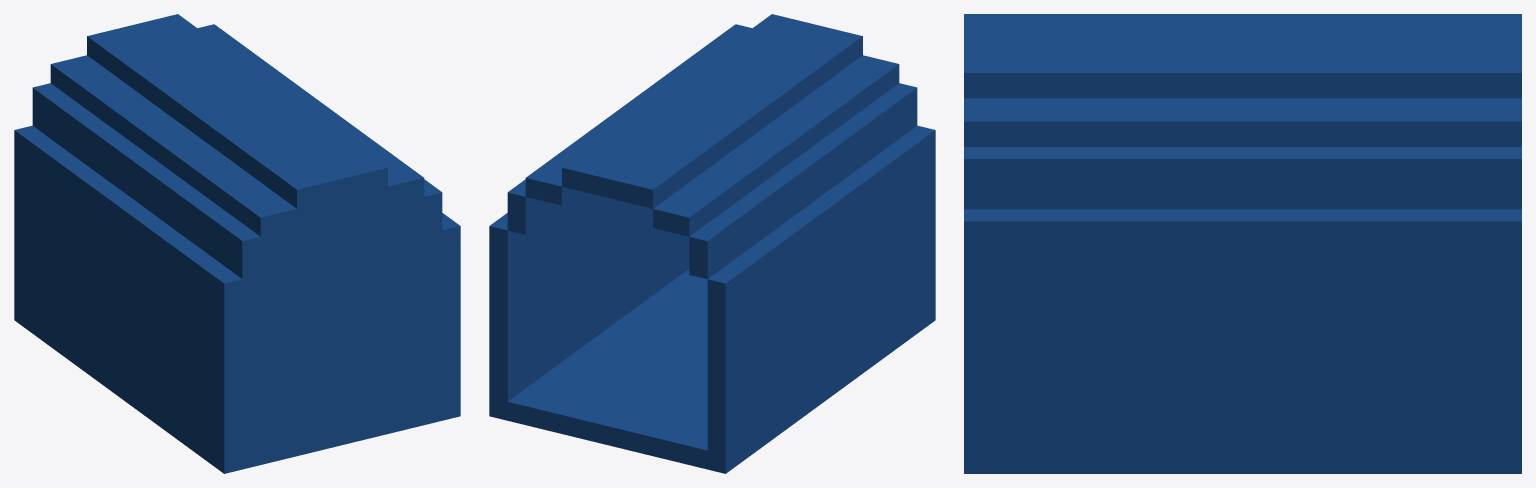
Rendered from mailbox_body.dae.
The picture shows the model from 3 angles, left to right: view 1: azimuth 30°, elevation 25°; view 2: azimuth 150°, elevation 25°; view 3: azimuth 270°, elevation 25°; orthographic projection. The views are drawn at different scales.
Visible parts, largest first — view 1: PlaneCOL; view 2: PlaneCOL; view 3: PlaneCOL.
Part boxes in pixels (box(x1,y1,x2,y2)): PlaneCOL: box(14, 14, 460, 473); PlaneCOL: box(489, 14, 935, 473); PlaneCOL: box(964, 14, 1521, 473).
Size of the model in its own units: 1.3 by 2 by 1.4.
